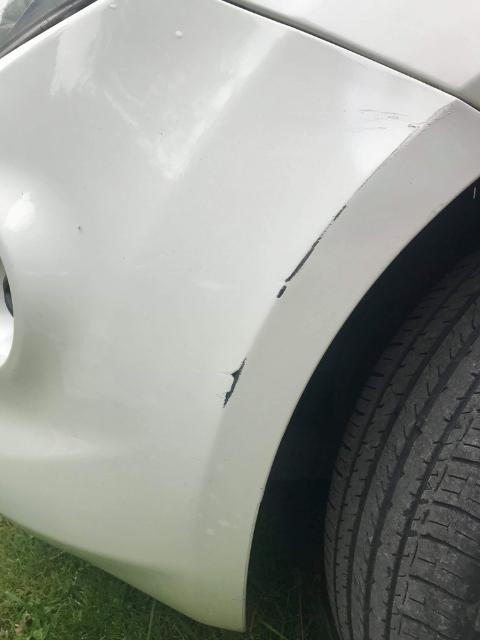scratch: (223, 122, 412, 409)
